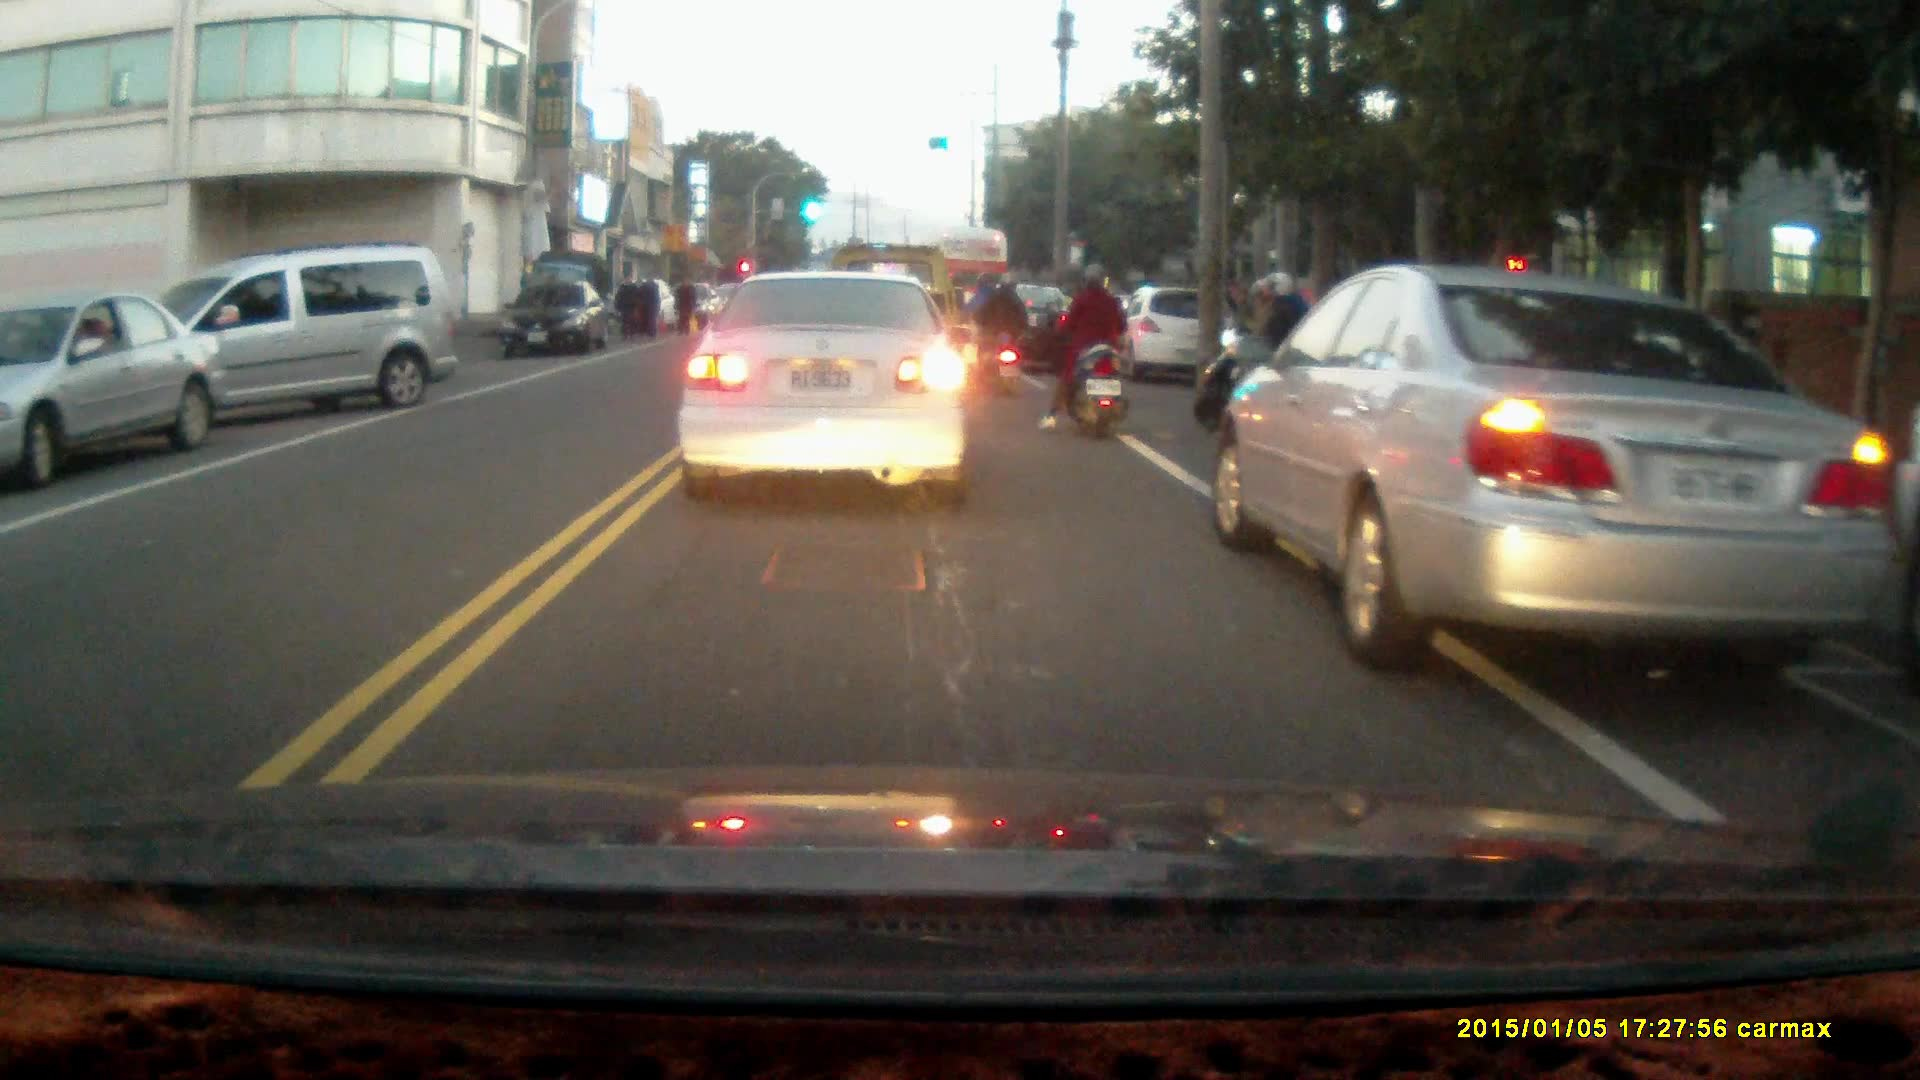pedestrian: (612, 271, 639, 344), (670, 271, 698, 337), (635, 270, 659, 347)
rider: (1195, 270, 1324, 445), (1035, 261, 1130, 440), (961, 268, 1028, 398)
vehicle: (1210, 259, 1895, 673), (678, 272, 976, 511), (110, 250, 458, 442), (1, 296, 232, 490), (967, 283, 1110, 384), (1118, 290, 1227, 390), (504, 280, 613, 360)
